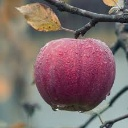apple: (32, 39, 117, 111)
